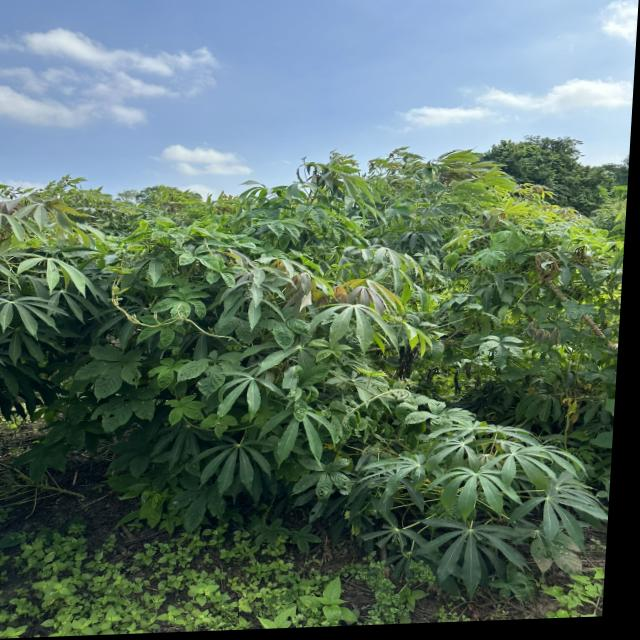Maleza: (465, 179, 620, 408), (4, 530, 364, 626), (141, 481, 245, 535), (137, 311, 192, 396), (84, 342, 151, 405), (173, 338, 243, 396), (46, 386, 85, 479), (154, 283, 217, 330), (90, 381, 156, 425), (385, 382, 444, 428), (295, 460, 364, 498), (162, 230, 219, 269), (249, 305, 308, 342), (186, 254, 238, 290), (166, 390, 209, 432), (303, 332, 355, 362), (205, 410, 237, 438)
